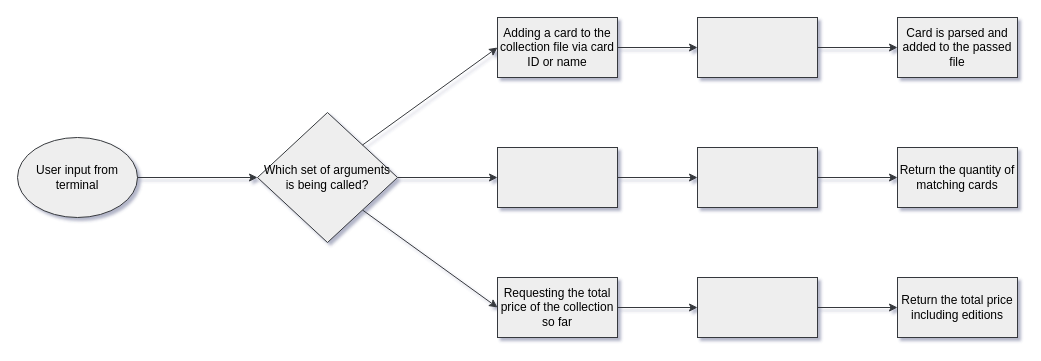
Some shapes in this 1041 by 361 pixel diagram are drawn without their labels. Here are the shapes that lost their labels. From the top down, the box of each, then its label:
(696, 16, 818, 78): Call the Scryfall API to get the card's information
(496, 146, 618, 208): Requesting if a given card is in the collection already
(696, 146, 818, 208): Search the argument file for a card that matches
(696, 276, 818, 338): Parse the given file and track the prices
